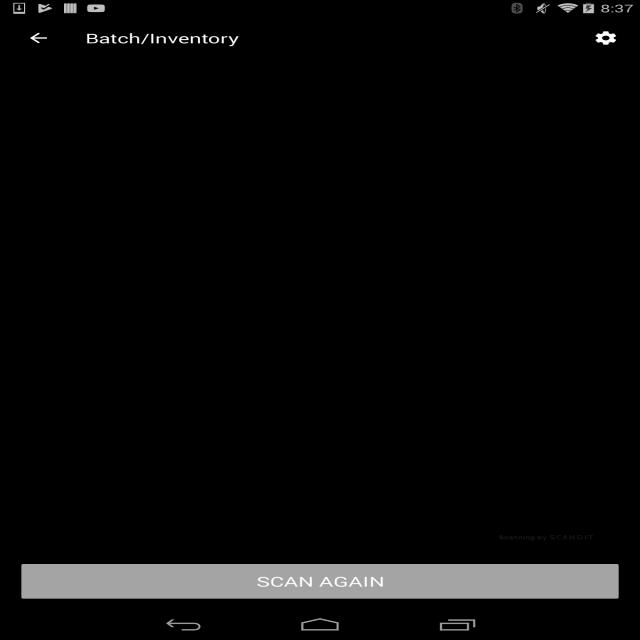Button: (18, 560, 624, 602)
ImageButton: (576, 24, 620, 49), (17, 28, 68, 46)
TextView: (97, 32, 248, 50)
